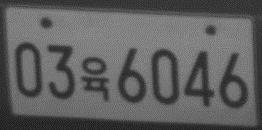0: (14, 41, 42, 99), (151, 48, 178, 105)
3: (46, 44, 75, 98)
4: (184, 50, 214, 107)
6: (218, 51, 248, 109), (116, 46, 146, 103)
육: (80, 55, 109, 101)
